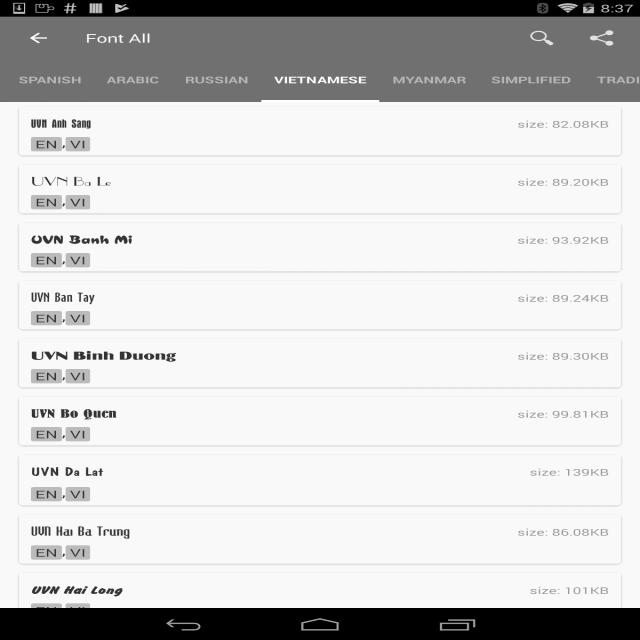ImageButton: (9, 17, 68, 59)
TextView: (262, 59, 379, 100), (478, 59, 584, 100), (379, 59, 478, 100), (5, 59, 94, 100), (172, 59, 261, 100), (94, 59, 172, 100), (584, 59, 640, 100), (512, 22, 572, 54), (572, 22, 631, 54), (31, 350, 176, 362), (31, 525, 130, 539), (31, 234, 132, 246), (517, 118, 609, 130), (517, 176, 609, 188), (517, 234, 609, 246), (517, 292, 609, 304), (517, 350, 609, 362), (517, 408, 609, 420), (517, 526, 609, 538), (31, 584, 123, 596), (31, 542, 90, 560), (31, 600, 90, 618), (85, 30, 151, 46), (31, 408, 117, 420), (530, 584, 609, 597), (31, 466, 103, 480), (31, 134, 90, 151), (31, 192, 90, 209), (31, 250, 90, 267), (31, 308, 90, 325), (31, 366, 90, 383), (31, 424, 90, 441), (31, 484, 90, 501), (31, 176, 111, 188), (530, 466, 609, 478), (31, 292, 94, 304), (31, 118, 91, 130), (0, 59, 5, 99)
